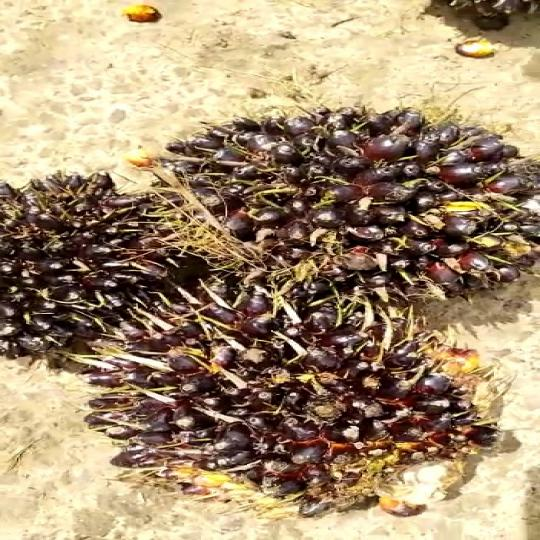mentah: (97, 269, 501, 515), (166, 100, 540, 314), (0, 161, 236, 366)
